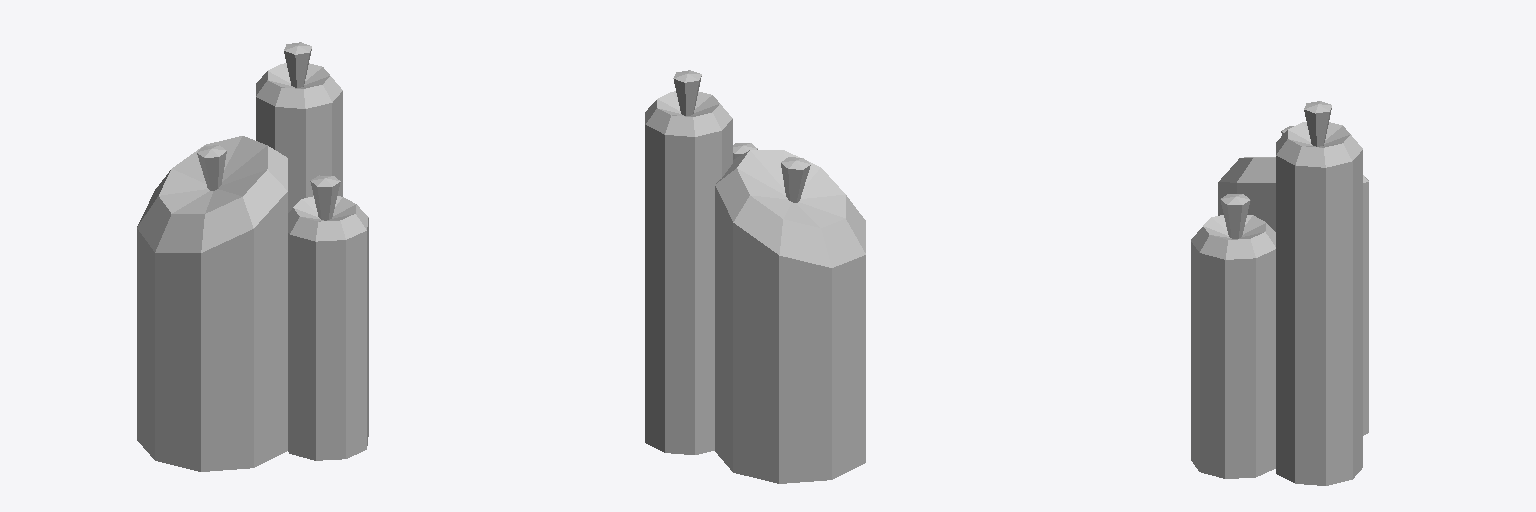
File: candle_triple.obj
3 views of the same model, side by side, from view 1: azimuth 30°, elevation 25°; view 2: azimuth 150°, elevation 25°; view 3: azimuth 270°, elevation 25° (orthographic).
Parts seen in each view (by area): view 1: candle_triple_Cylinder.115; view 2: candle_triple_Cylinder.115; view 3: candle_triple_Cylinder.115.
Part boxes in pixels (bbox=[...]): candle_triple_Cylinder.115: bbox=[137, 42, 368, 471]; candle_triple_Cylinder.115: bbox=[645, 70, 865, 483]; candle_triple_Cylinder.115: bbox=[1191, 101, 1368, 485].
Size of the model in its own units: 0.4511 by 0.7857 by 0.3509.